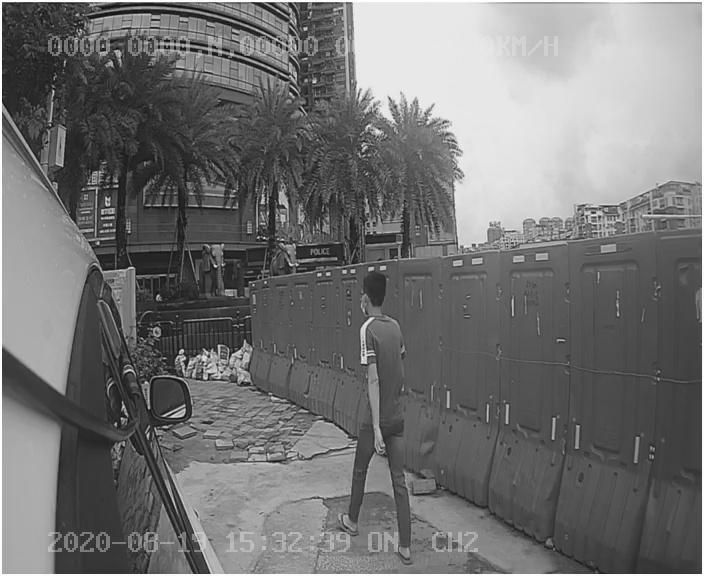person: (326, 275, 430, 536)
